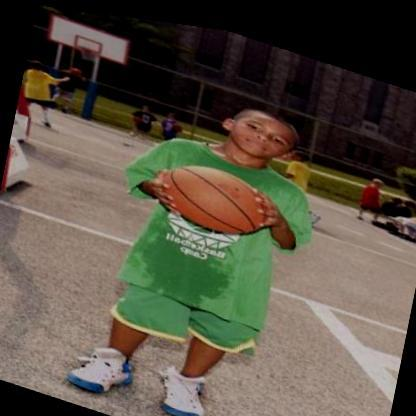basketball: (154, 147, 276, 242)
